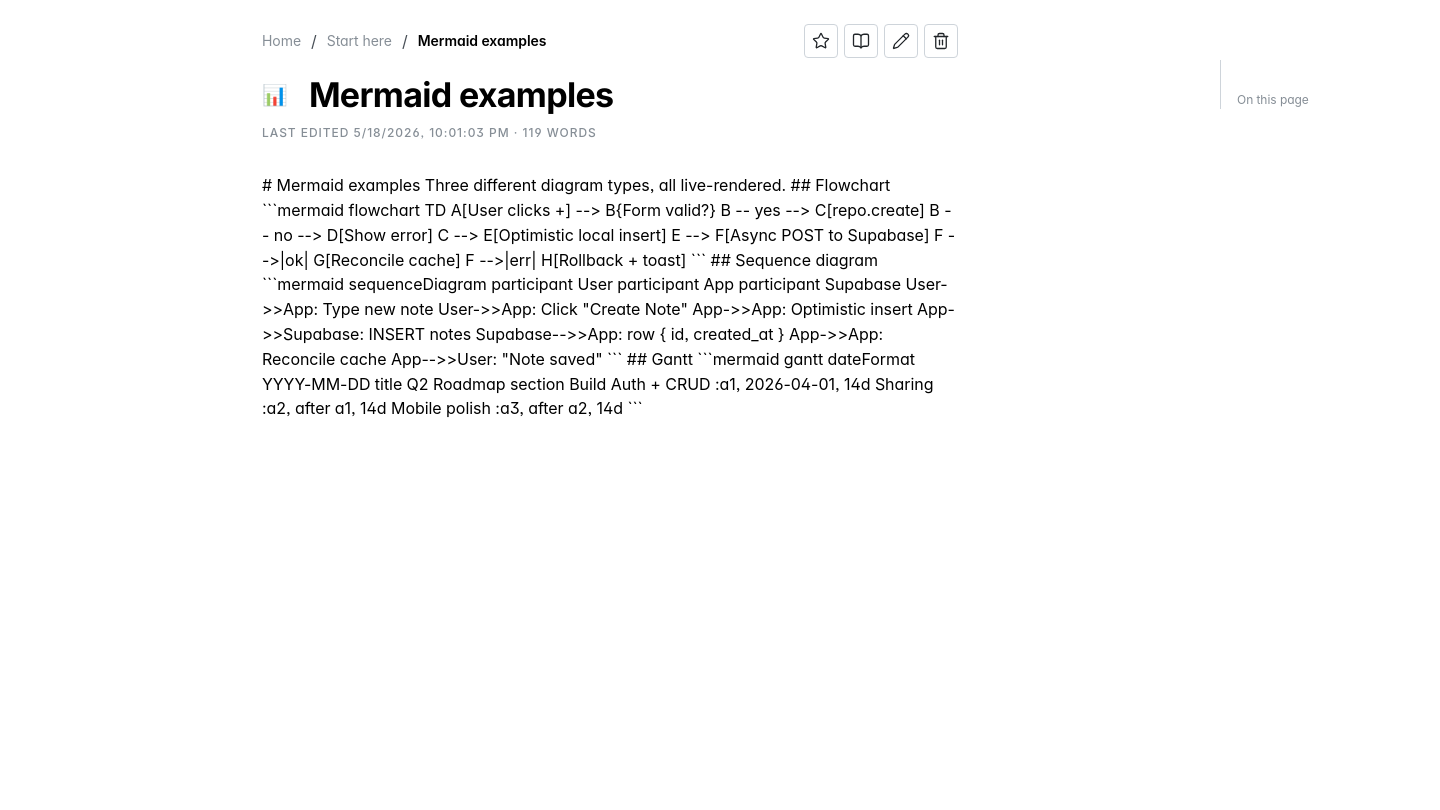
Test: NoteView interactions › trash button opens confirm
The width and height of the screenshot is (1440, 810).
Click the button named "Move note to Trash".
click(941, 41)  # box [924,24,958,58]
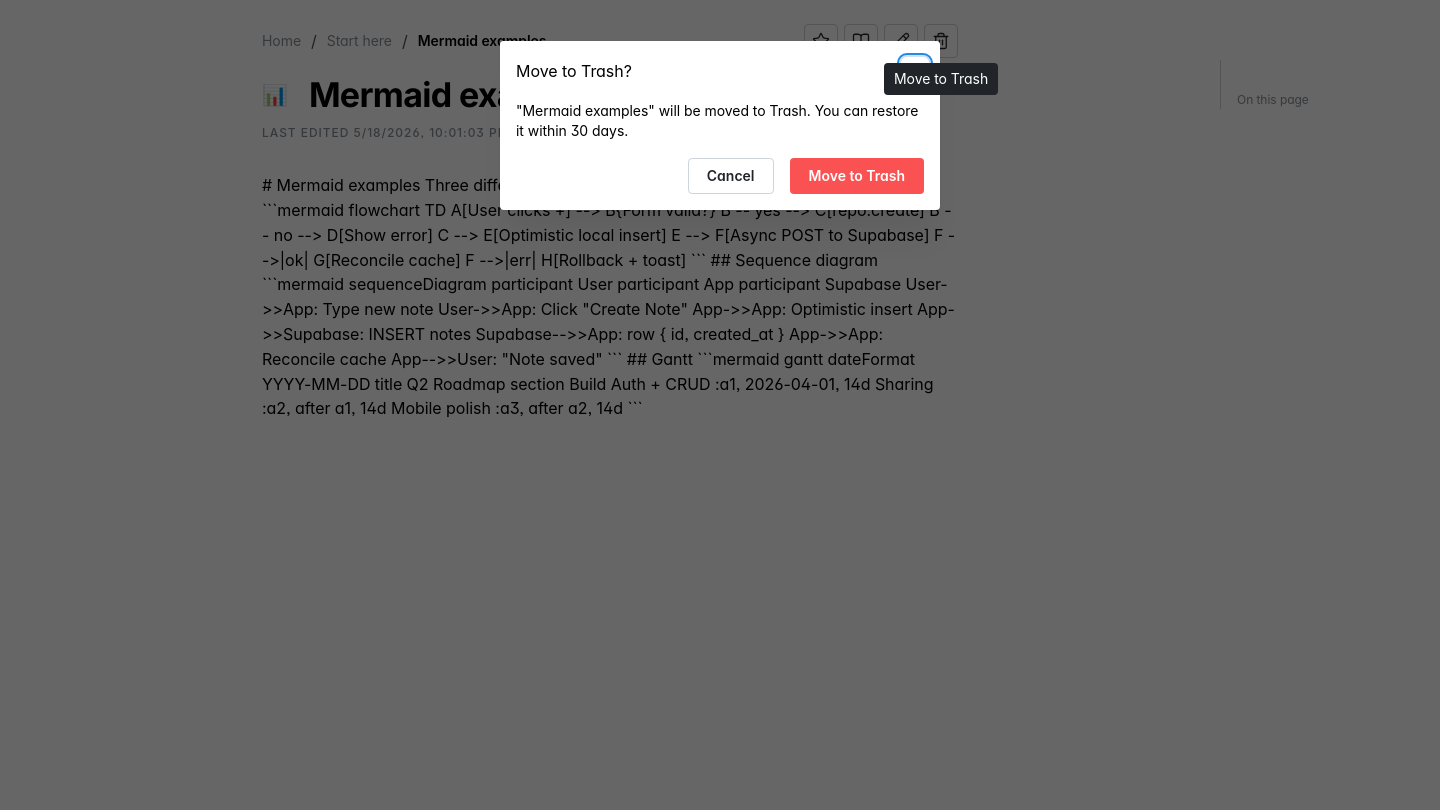
Now the heading "Move to Trash?" is shown, box [516,62,632,78]
